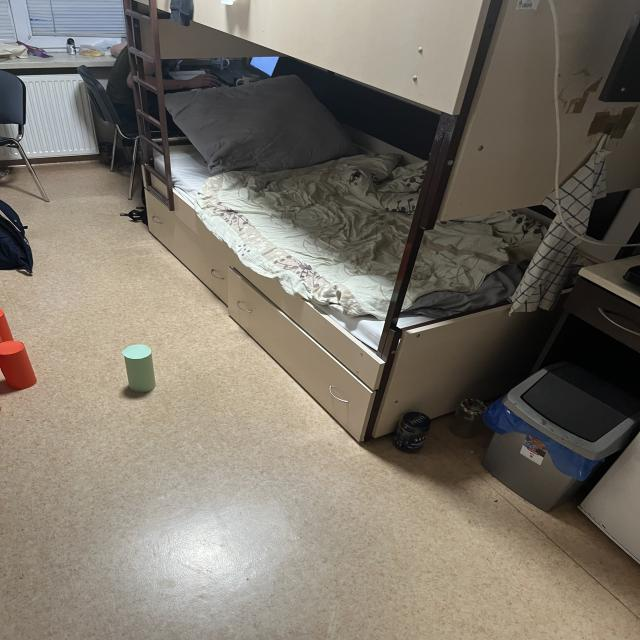meta: (122, 344, 155, 392)
